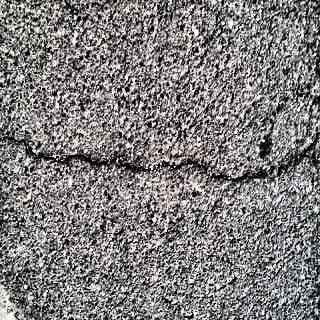crack: (104, 126, 317, 206), (0, 112, 147, 193)
